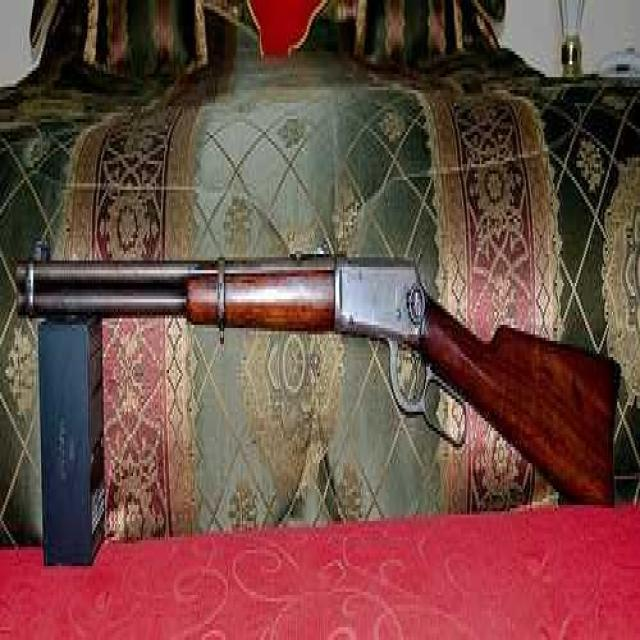heavyweapon: (14, 213, 619, 554)
